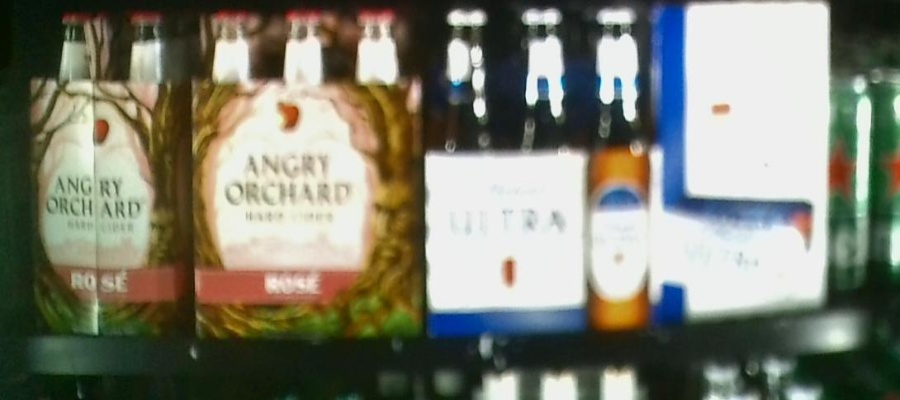bottle: (191, 8, 424, 332), (429, 9, 655, 324), (656, 1, 830, 308), (31, 3, 188, 340), (828, 70, 874, 296)
